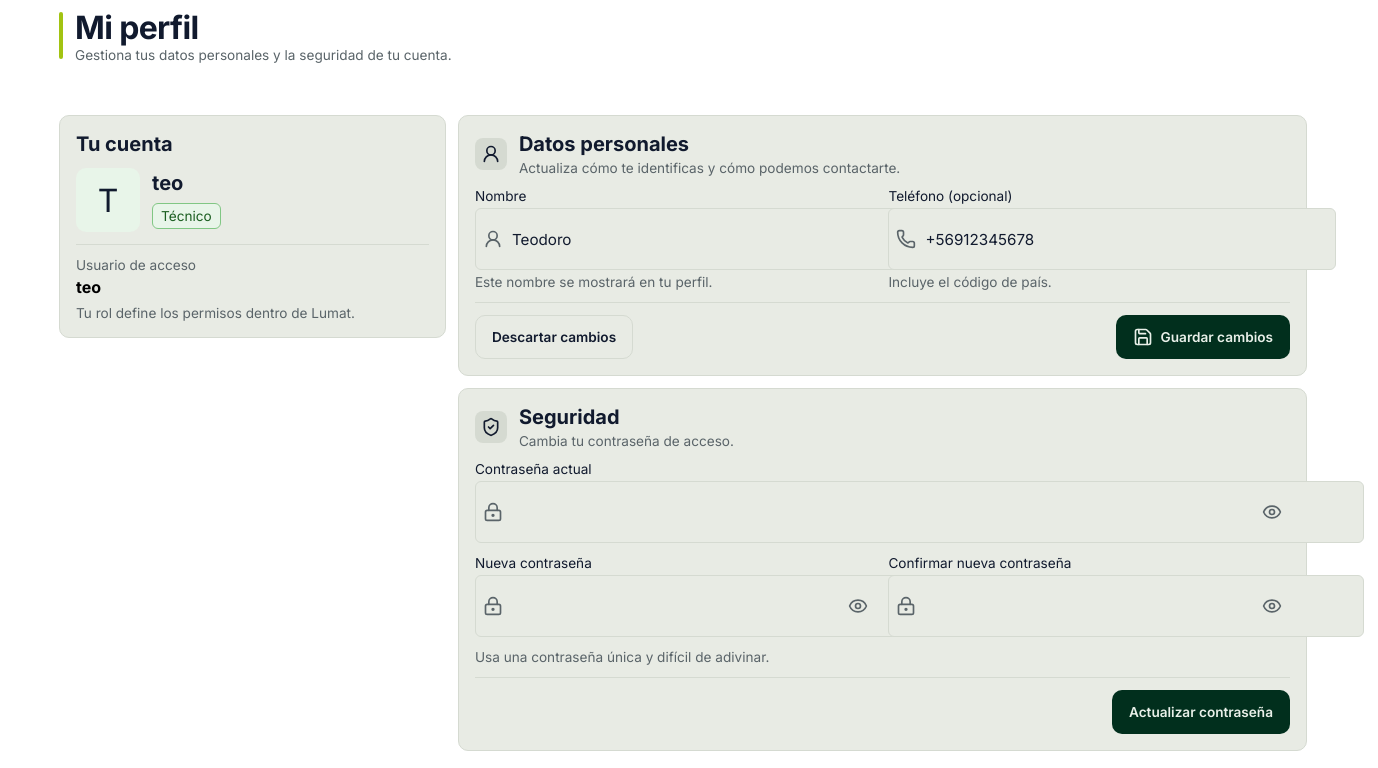
Test case: SelfProfile › blocks the password change when the confirmation does not match
This screenshot has width=1378, height=768.
Expected: the field labelled "Nombre" is shown, [475,208,922,270]
Type "current-pass" into the password field labelled "Contraseña actual" at (919, 512), box [475,481,1364,543]
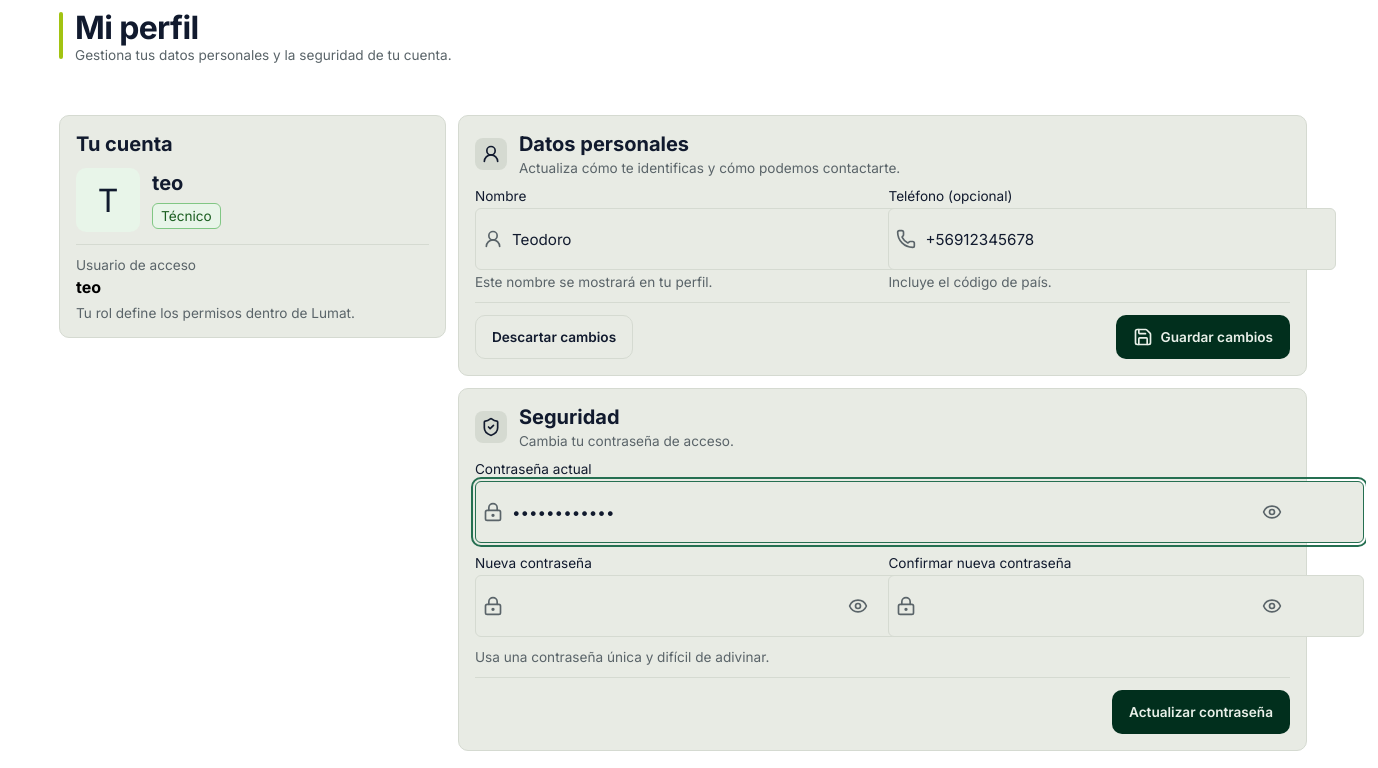
Type "new-password" into the password field labelled "Nueva contraseña" at (713, 606), box [475,575,950,637]
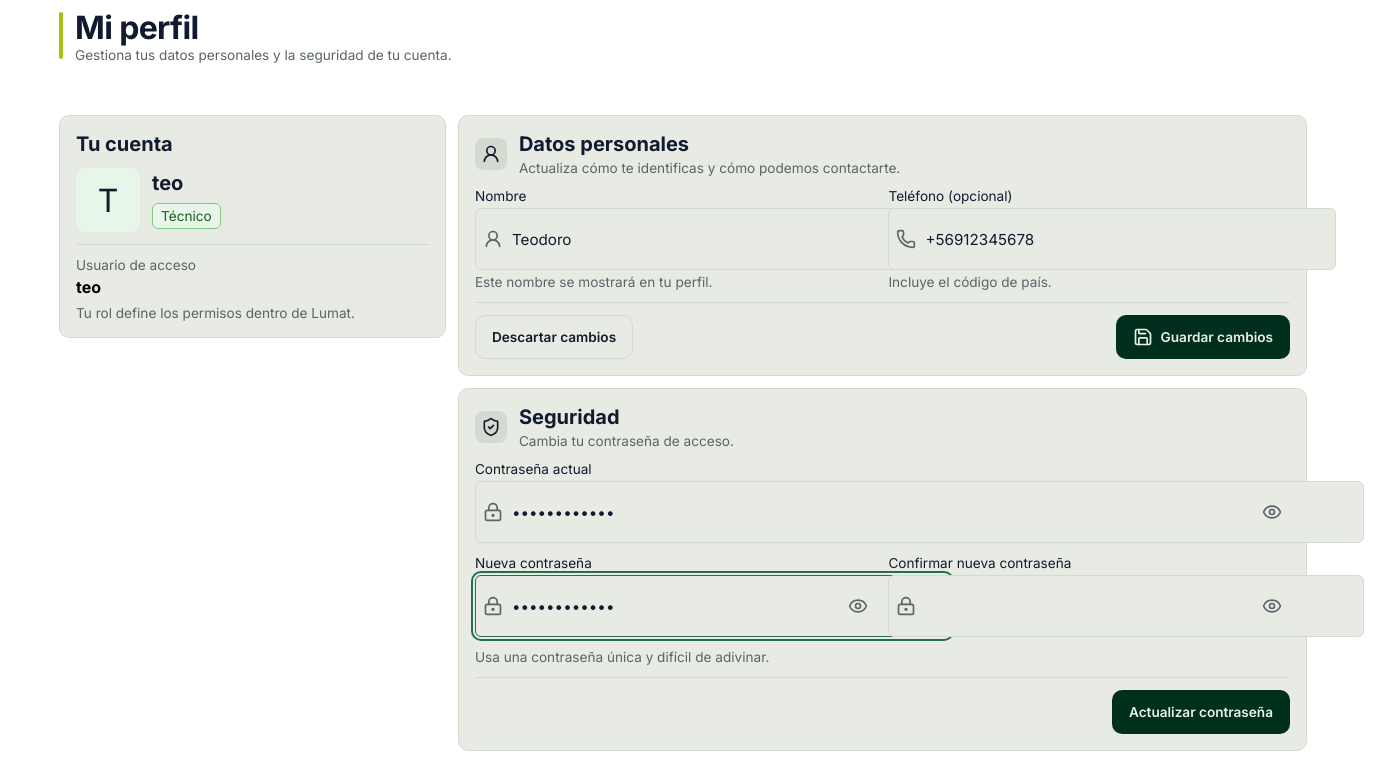
Type "different-pass" into the password field labelled "Confirmar nueva contraseña" at (1126, 606), box [888,575,1364,637]
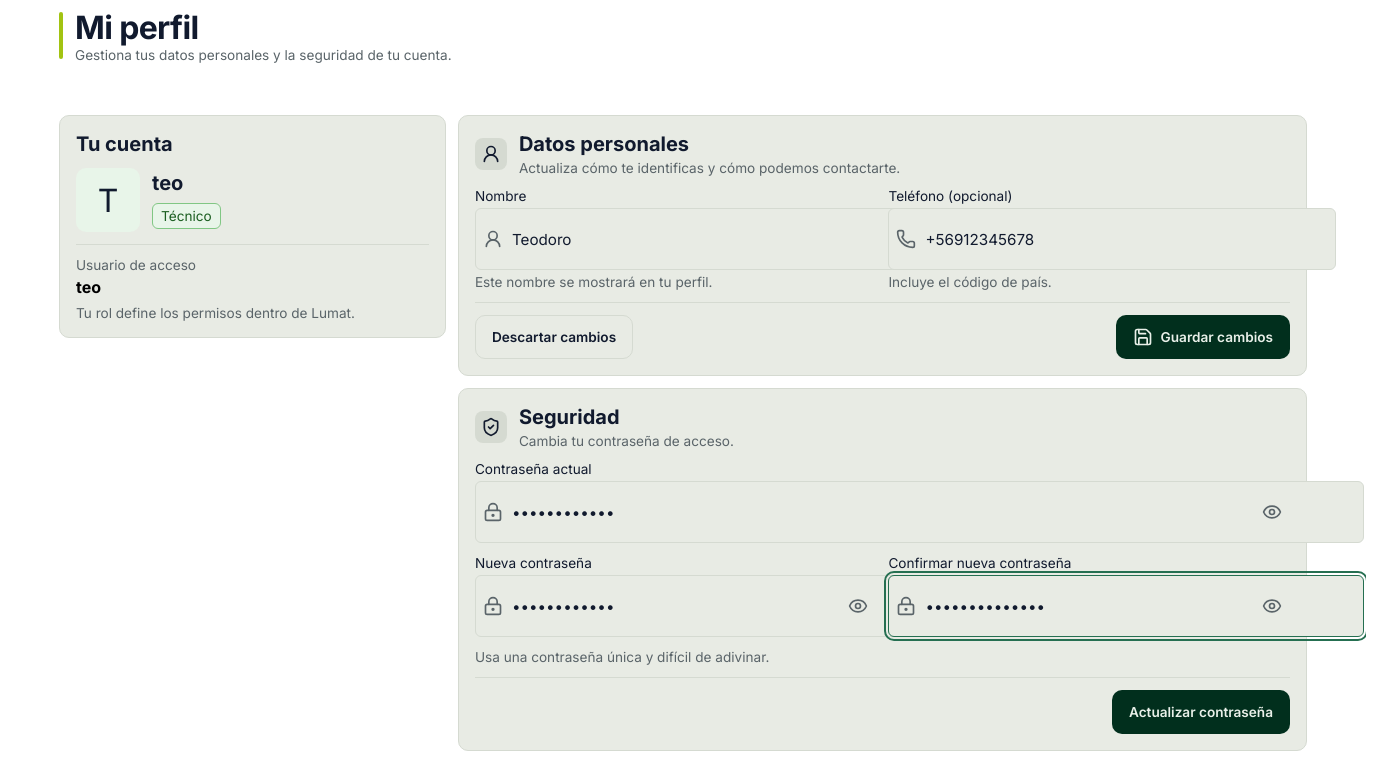
Click the button "Actualizar contraseña" at (1201, 712), box [1112,690,1290,734]
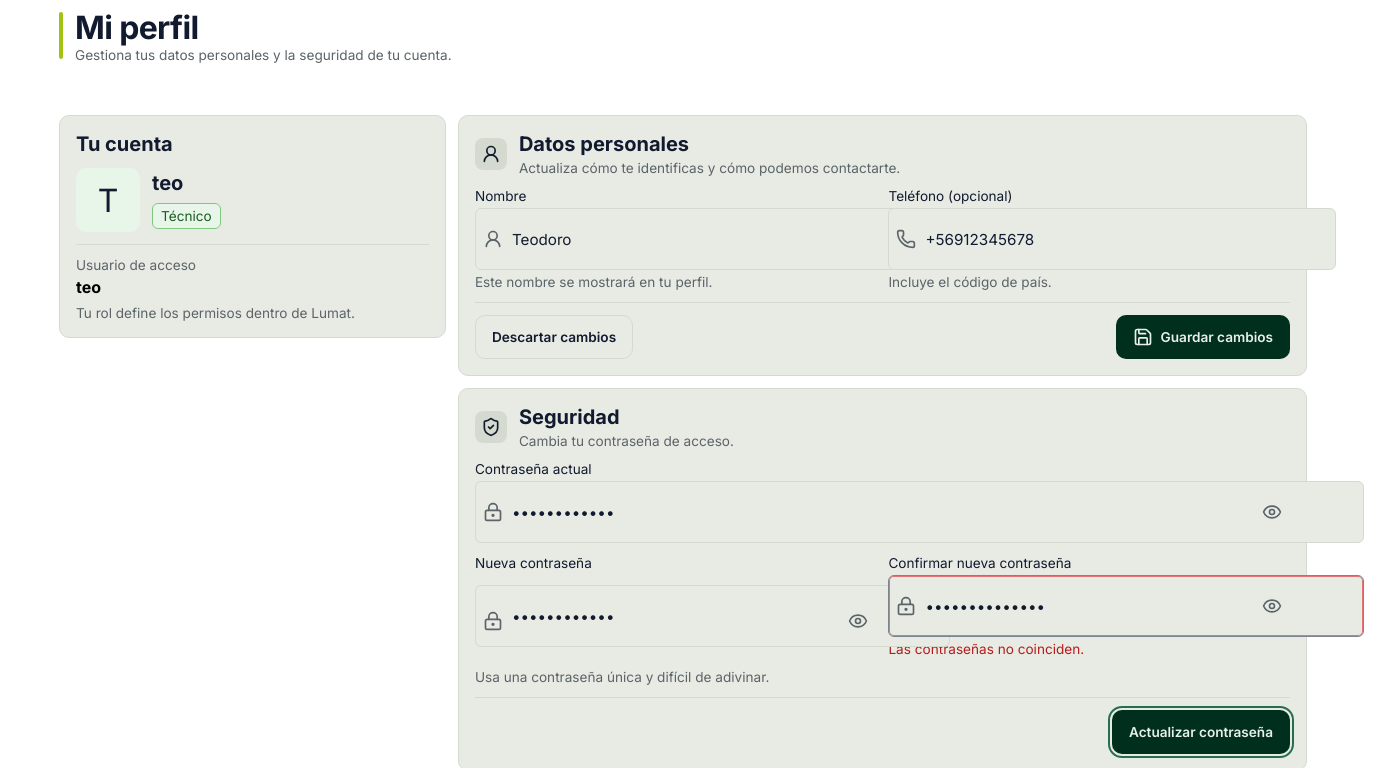
Expected: the message shows "no coinciden", [888,641,1084,657]
